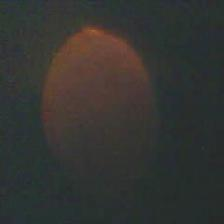fertile: (38, 23, 154, 176)
